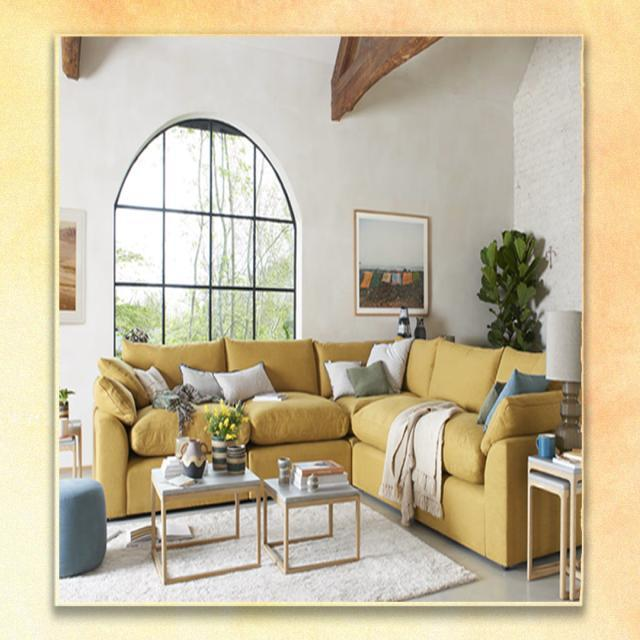sofa: (91, 333, 568, 570)
